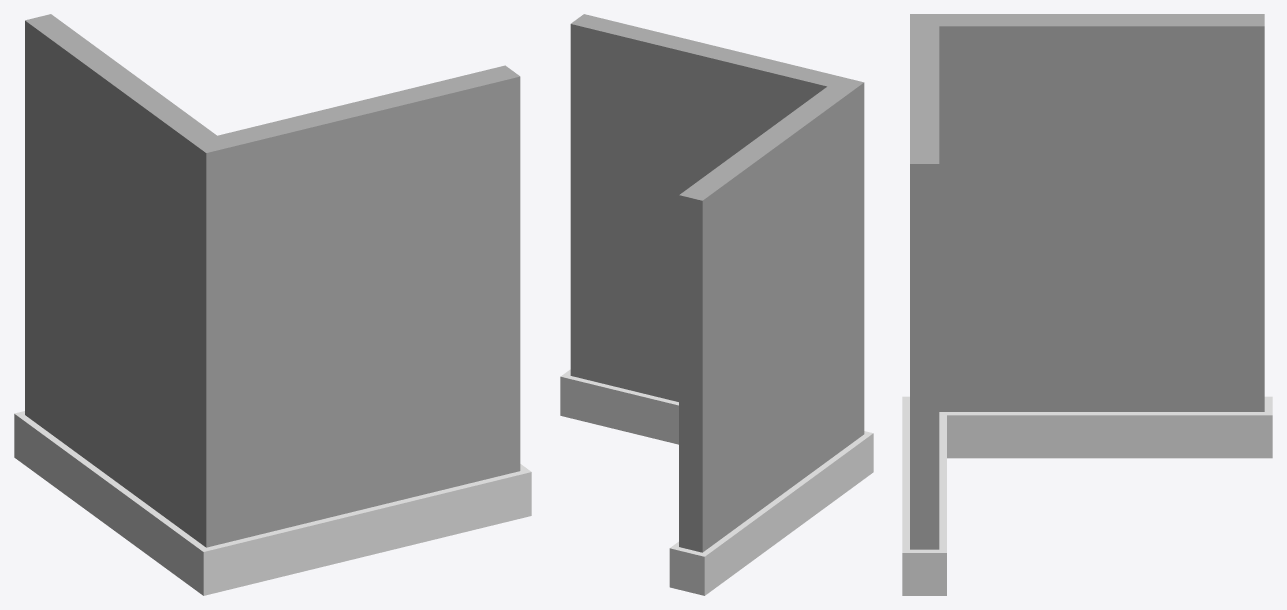
File: WallCorner.fbx
The picture shows the model from 3 angles, left to right: view 1: azimuth 30°, elevation 25°; view 2: azimuth 150°, elevation 25°; view 3: azimuth 270°, elevation 25°; orthographic projection. The views are drawn at different scales.
Parts seen in each view (by area): view 1: Corner; view 2: Corner; view 3: Corner.
Part boxes in pixels (box(x1,y1,x2,y2)): Corner: box(14, 14, 531, 595); Corner: box(560, 14, 873, 595); Corner: box(902, 14, 1272, 595).
Size of the model in its own units: 3.14 by 4 by 3.13.
